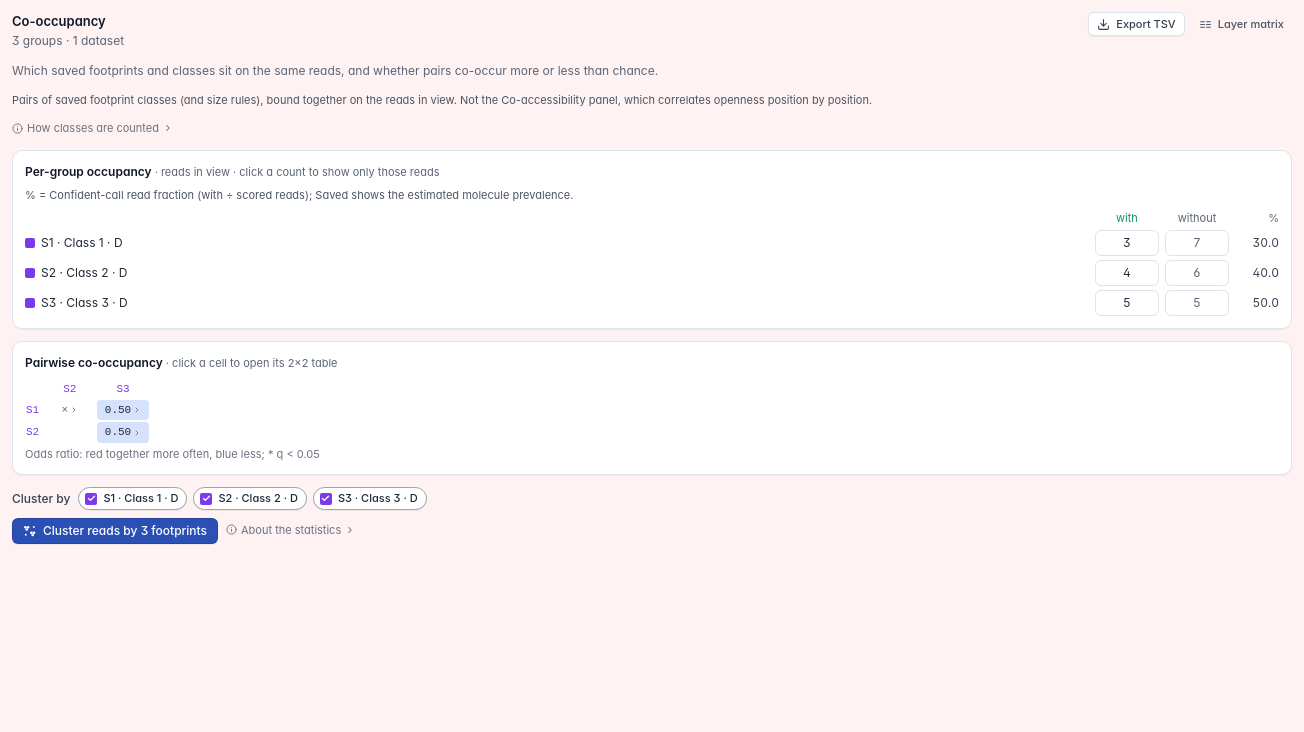
Test: Co-occupancy tab: what opens and what filters is explicit › overlapping classes still open their 2×2 table, with the same affordance, and say why the odds ratio is not a measured avoidance
The width and height of the screenshot is (1304, 732).
Click the button with test id "coocc-pair-cell".
click(70, 410)  # box 44,400 -> 95,420
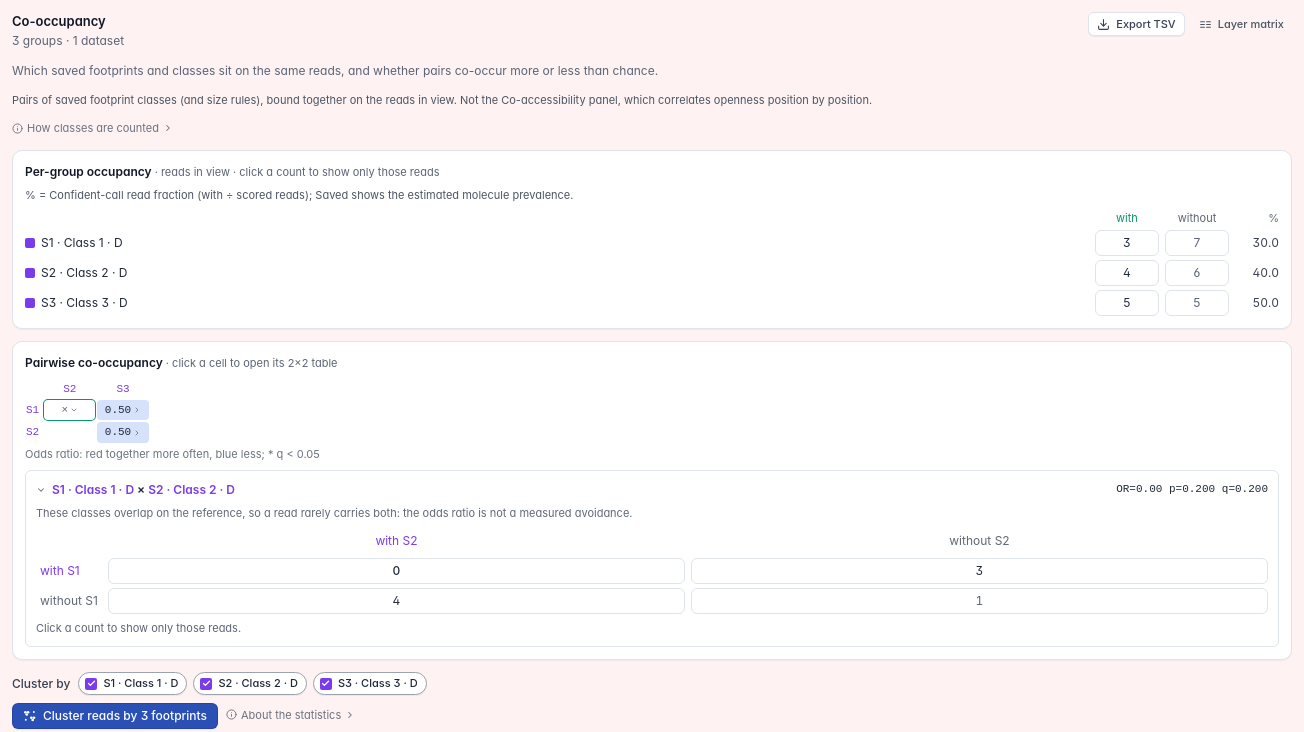
Expected: the element with test id "coocc-pair-detail" shows "overlap", 36,506 -> 632,520
